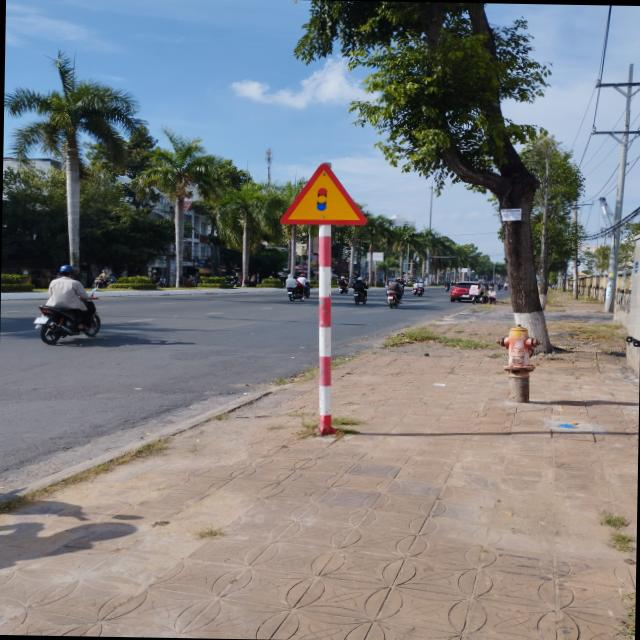Duong_Co_Go_Giam_Toc: (279, 162, 368, 225)
